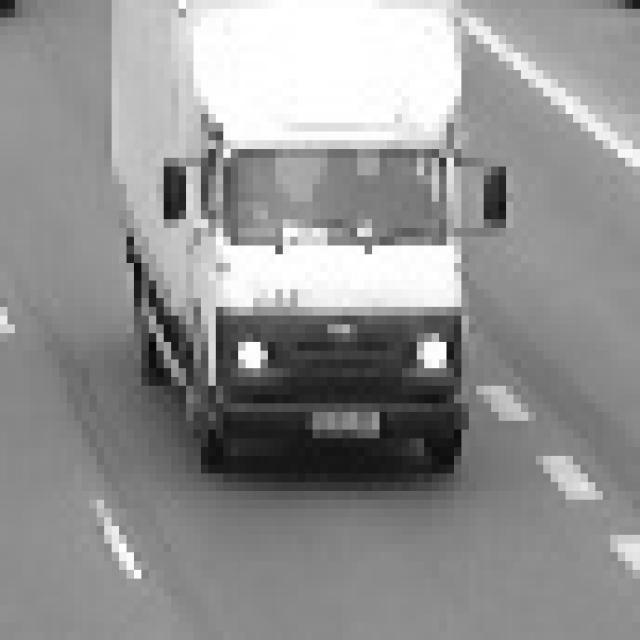truck: (144, 82, 524, 498)
